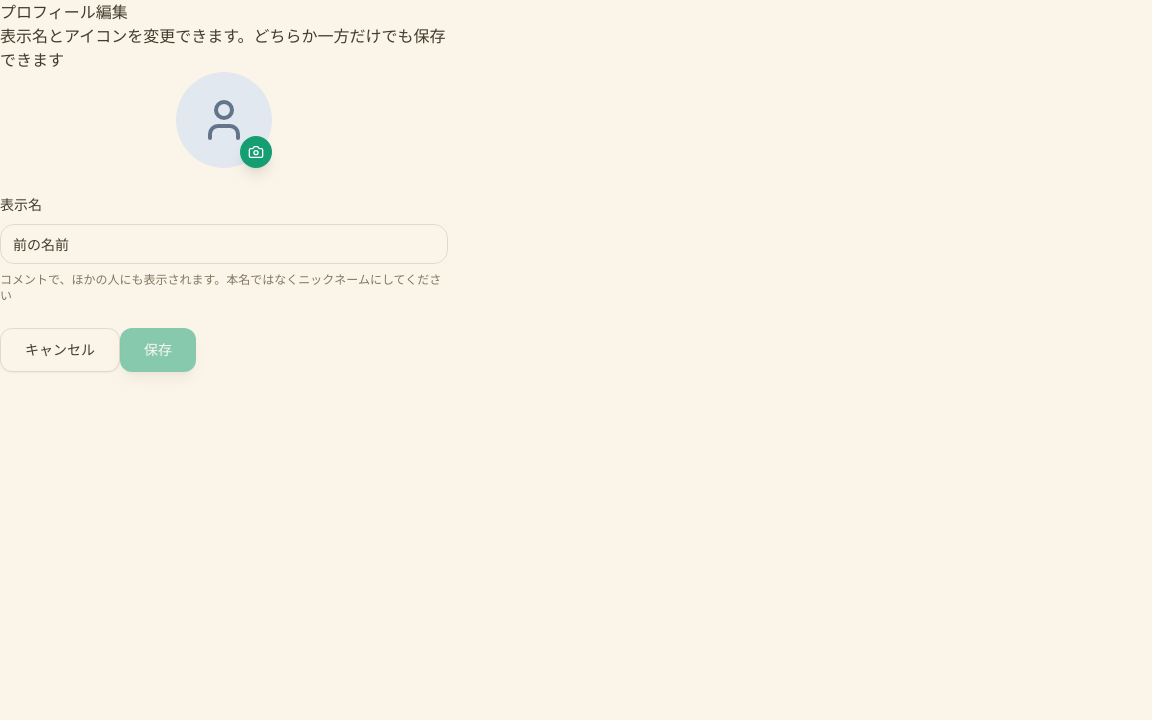
it: ProfileEditDialog › 入っていた表示名を消したら保存せずに知らせる
Clear the field showing "前の名前" at (224, 244), box [0, 224, 448, 264]
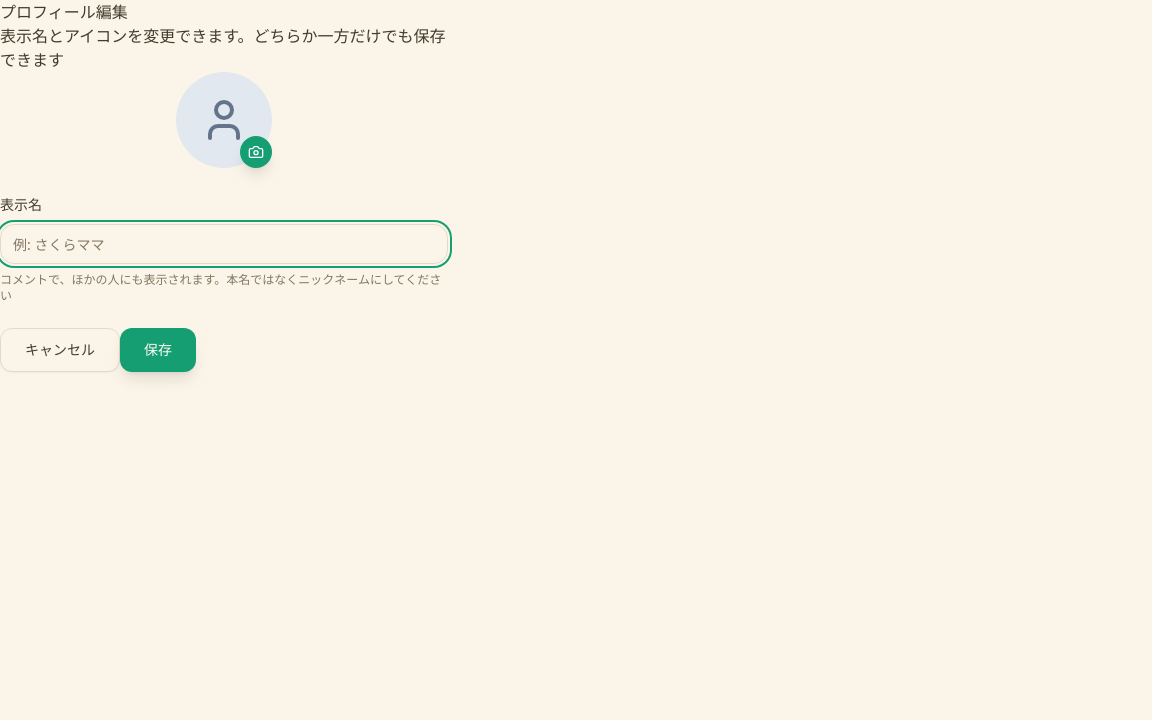
Click the button with test id "profile-save-button" at (158, 350), box [120, 328, 196, 372]
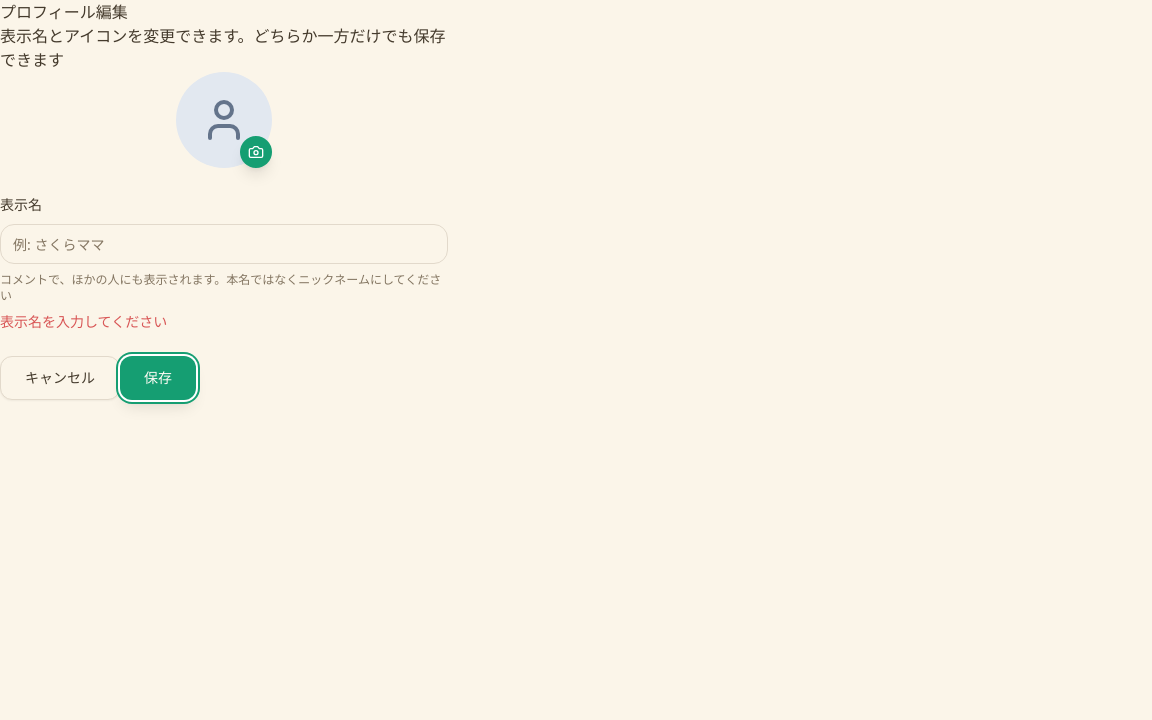
Now the text "表示名を入力してください" is shown, box [0, 312, 167, 331]
